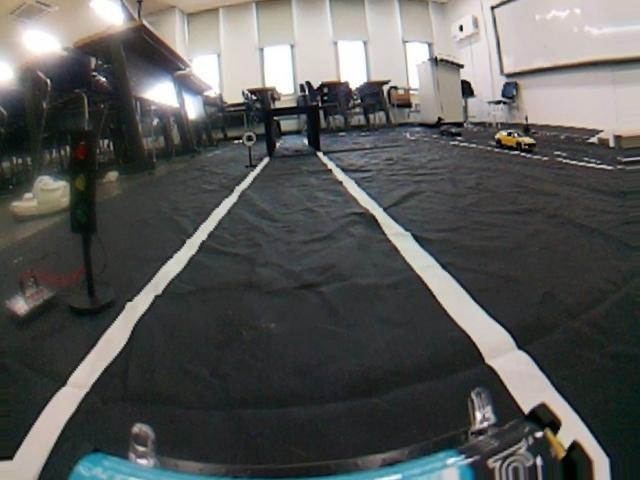red_light: (58, 130, 111, 246)
straight: (0, 189, 640, 475)
